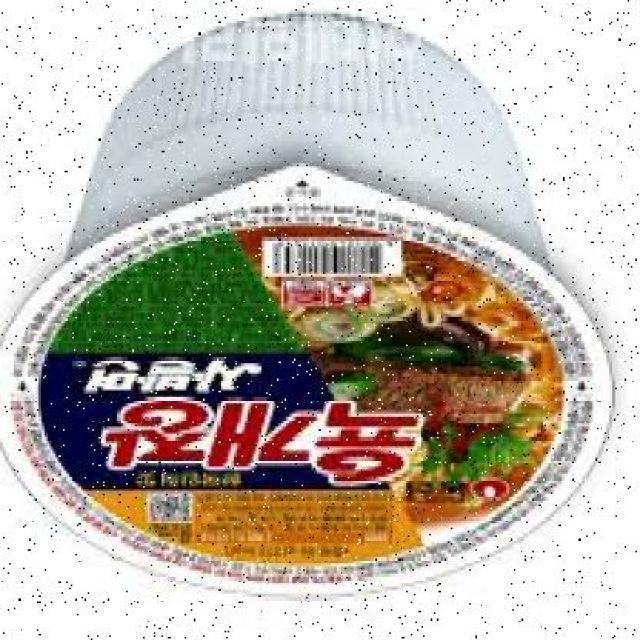Miscellaneous: (0, 0, 615, 603)
